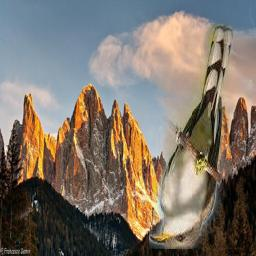Cuckoo: (149, 25, 233, 250)
